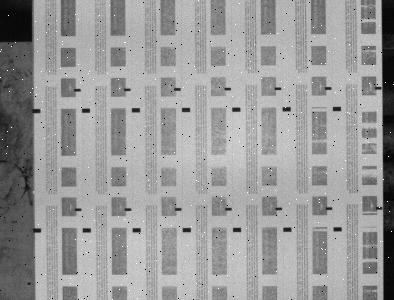qblock: (232, 107, 241, 112), (283, 227, 292, 232), (182, 227, 191, 232), (182, 107, 190, 112), (33, 228, 41, 233), (82, 108, 90, 113), (333, 106, 341, 111), (82, 228, 91, 232), (282, 107, 291, 111), (132, 228, 141, 232), (333, 227, 342, 231), (132, 108, 140, 112), (233, 228, 241, 232), (32, 109, 40, 113)
smallqblock: (225, 207, 232, 211), (376, 206, 383, 210), (74, 88, 81, 92), (124, 88, 131, 91), (174, 88, 181, 91), (75, 208, 82, 211), (224, 87, 231, 90), (175, 208, 182, 211), (325, 87, 332, 90), (275, 207, 282, 210), (375, 86, 382, 89), (125, 208, 131, 211), (275, 87, 281, 90), (326, 207, 332, 210)
